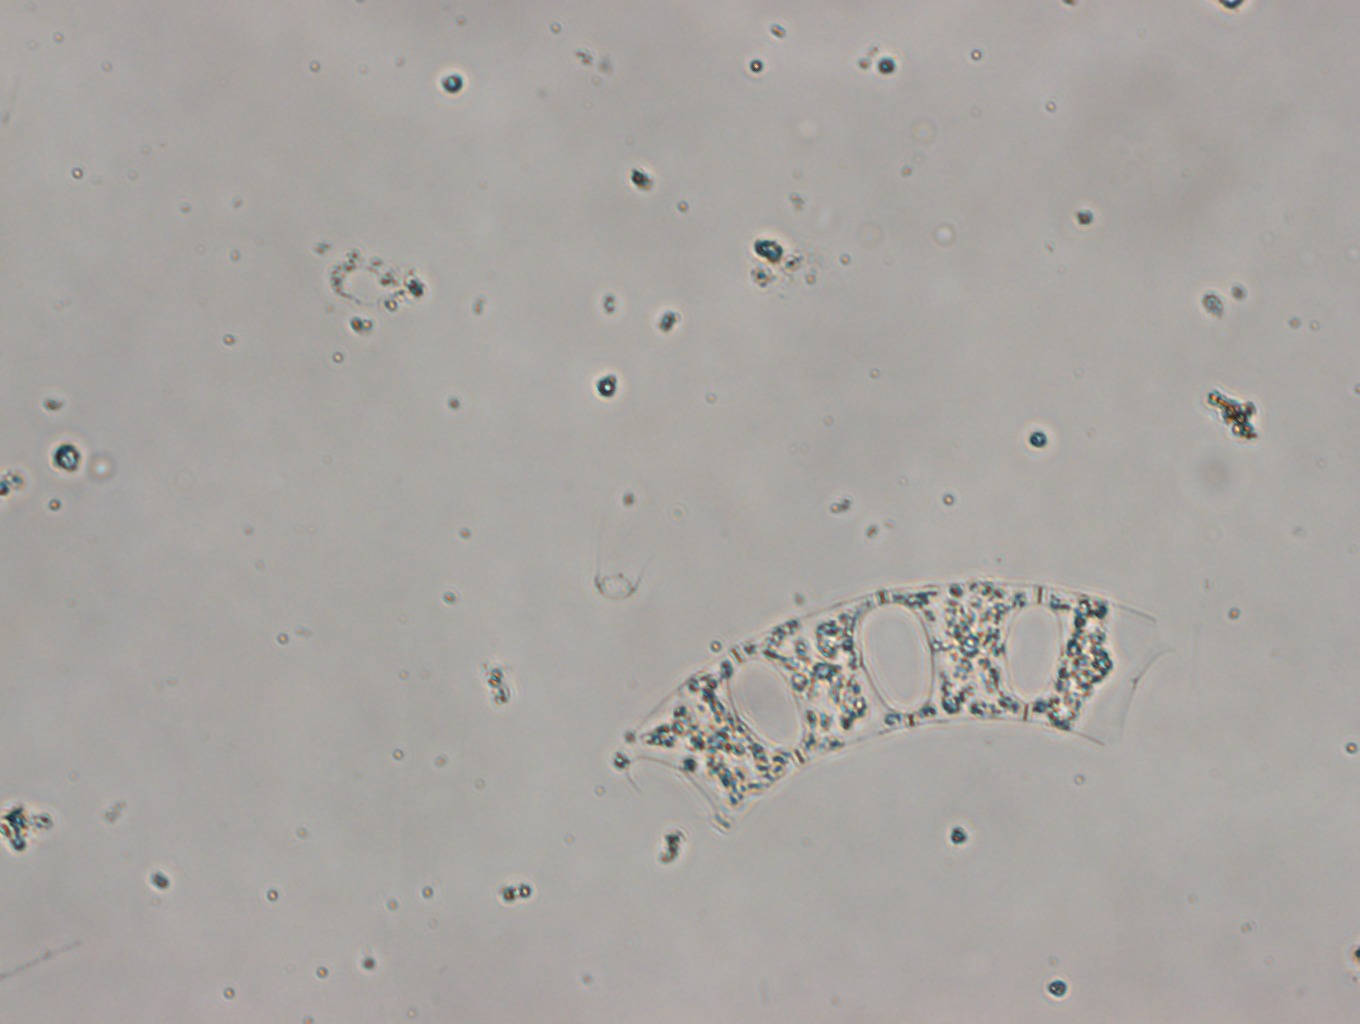eucampia: (606, 569, 1178, 858)
